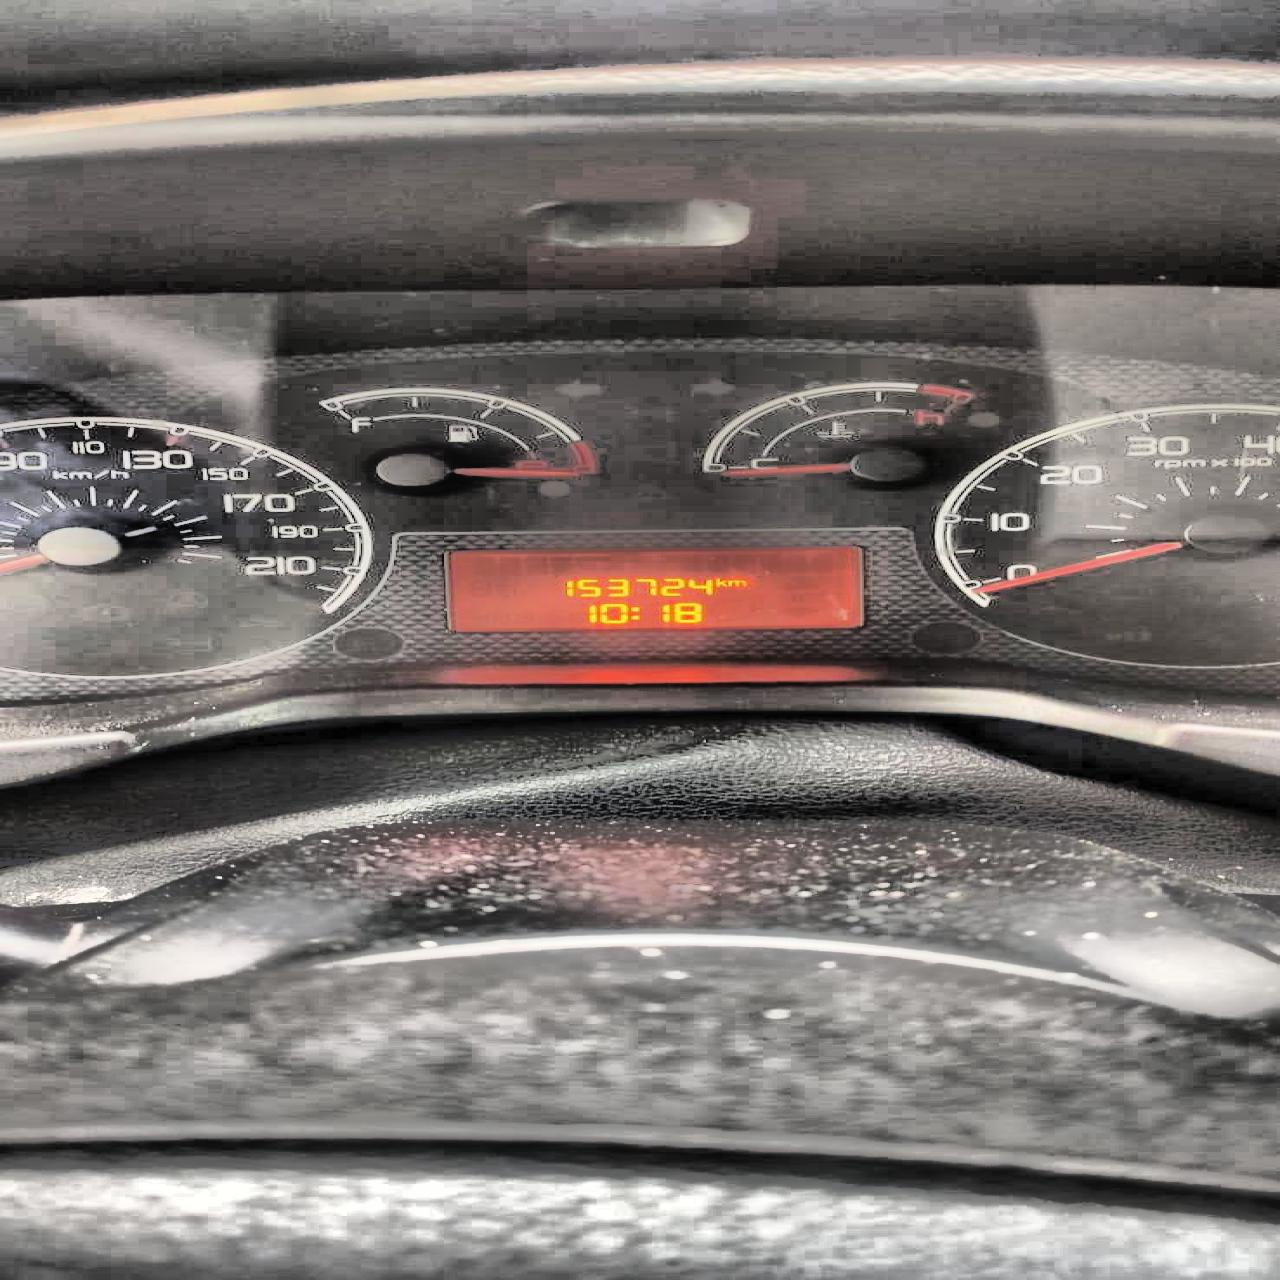0: (598, 602, 626, 624)
1: (561, 578, 574, 598), (585, 602, 597, 622), (659, 601, 668, 624)
2: (659, 577, 685, 595)
3: (601, 577, 629, 597)
4: (688, 578, 713, 594)
5: (576, 578, 600, 597)
7: (633, 576, 658, 594)
8: (673, 601, 701, 624)
X: (628, 604, 640, 619), (727, 579, 748, 586), (715, 577, 727, 586)
odometer: (445, 550, 863, 628)
